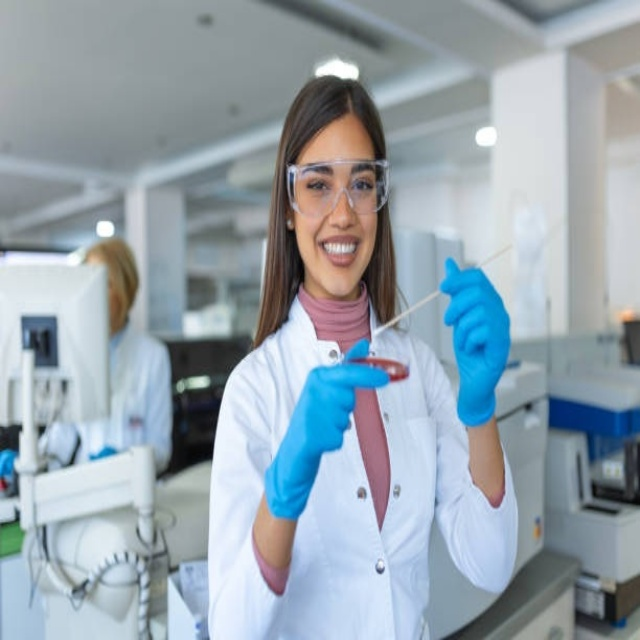Gafas: (285, 157, 390, 217)
Guantes: (258, 337, 390, 521), (435, 256, 511, 427)
Sin_mascara: (314, 231, 364, 275)
